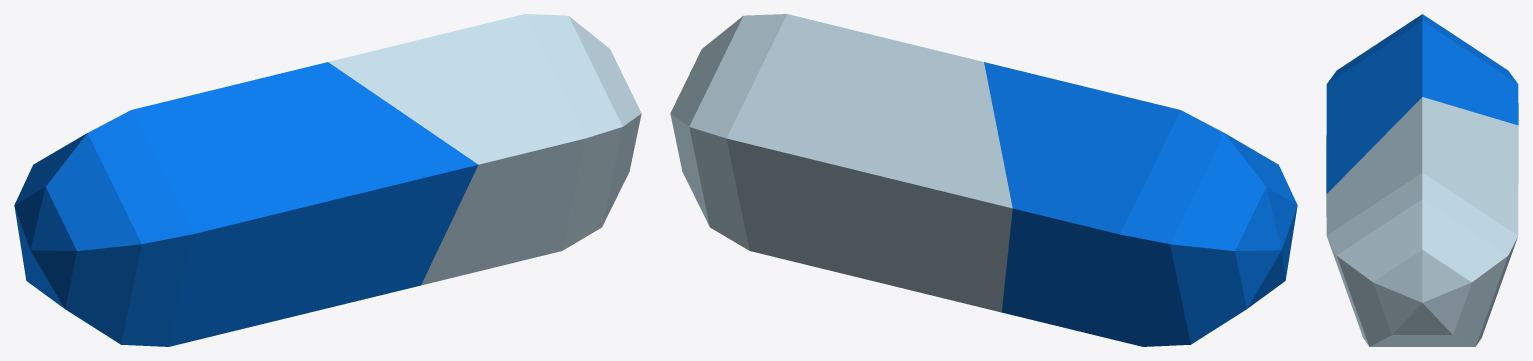
The model's file is SM_Prop_Pills_05.fbx.
3 views of the same model, side by side, from view 1: azimuth 30°, elevation 25°; view 2: azimuth 150°, elevation 25°; view 3: azimuth 270°, elevation 25° (orthographic). The views are drawn at different scales.
Visible parts, largest first — view 1: SM_Prop_Pills_05; view 2: SM_Prop_Pills_05; view 3: SM_Prop_Pills_05.
Part boxes in pixels (box(x1,y1,x2,y2)): SM_Prop_Pills_05: box(14, 14, 641, 346); SM_Prop_Pills_05: box(670, 14, 1297, 346); SM_Prop_Pills_05: box(1326, 14, 1518, 346).
Bounding box in the file's own units: 6.14 × 2.06 × 2.18.
